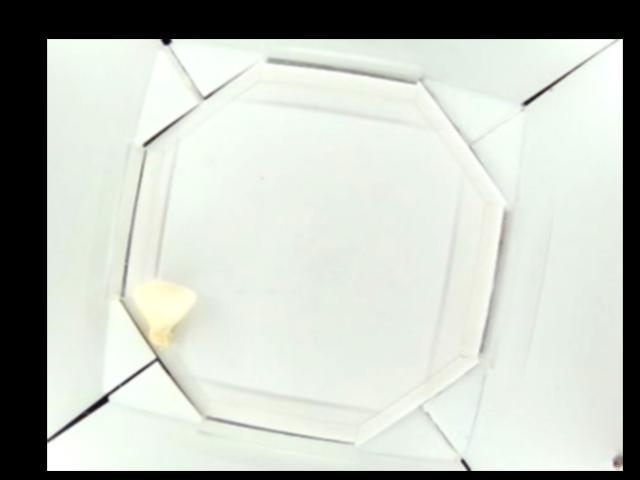Mooli: (132, 275, 198, 349)
